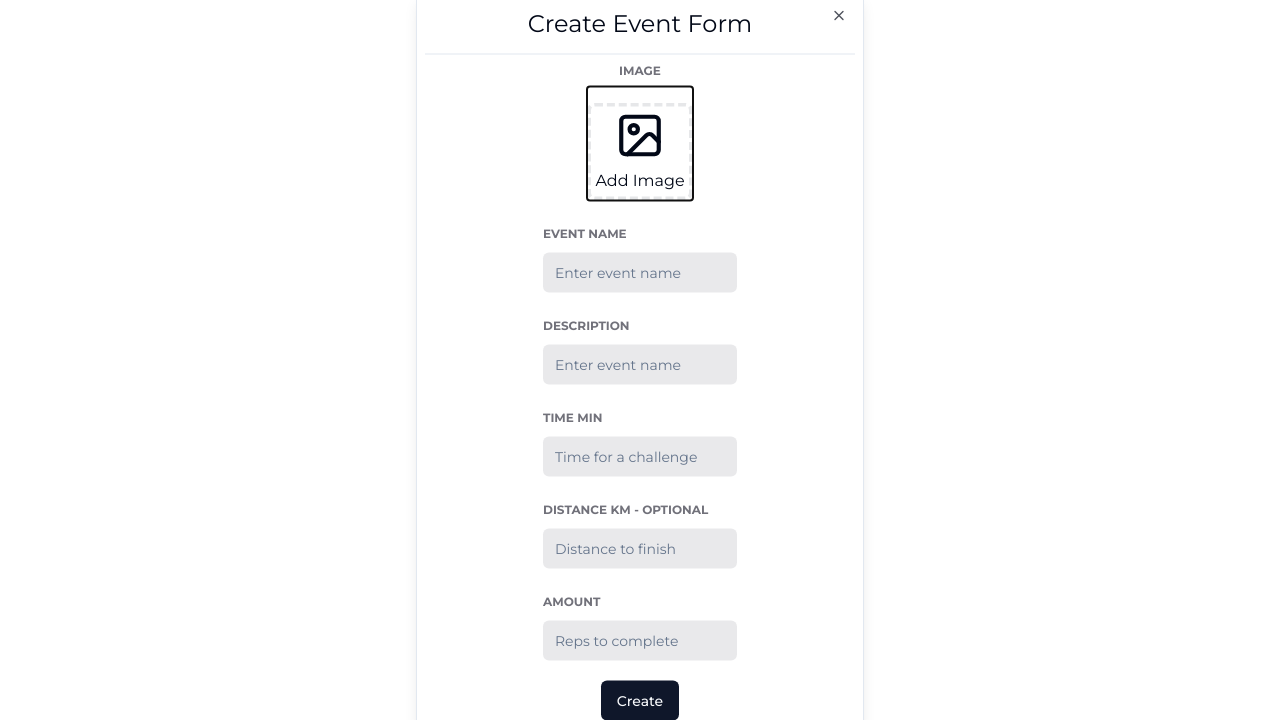
InitialModal component › should not submit the form with invalid data
Click the button "Create".
click(640, 700)  # box [601,680,679,719]
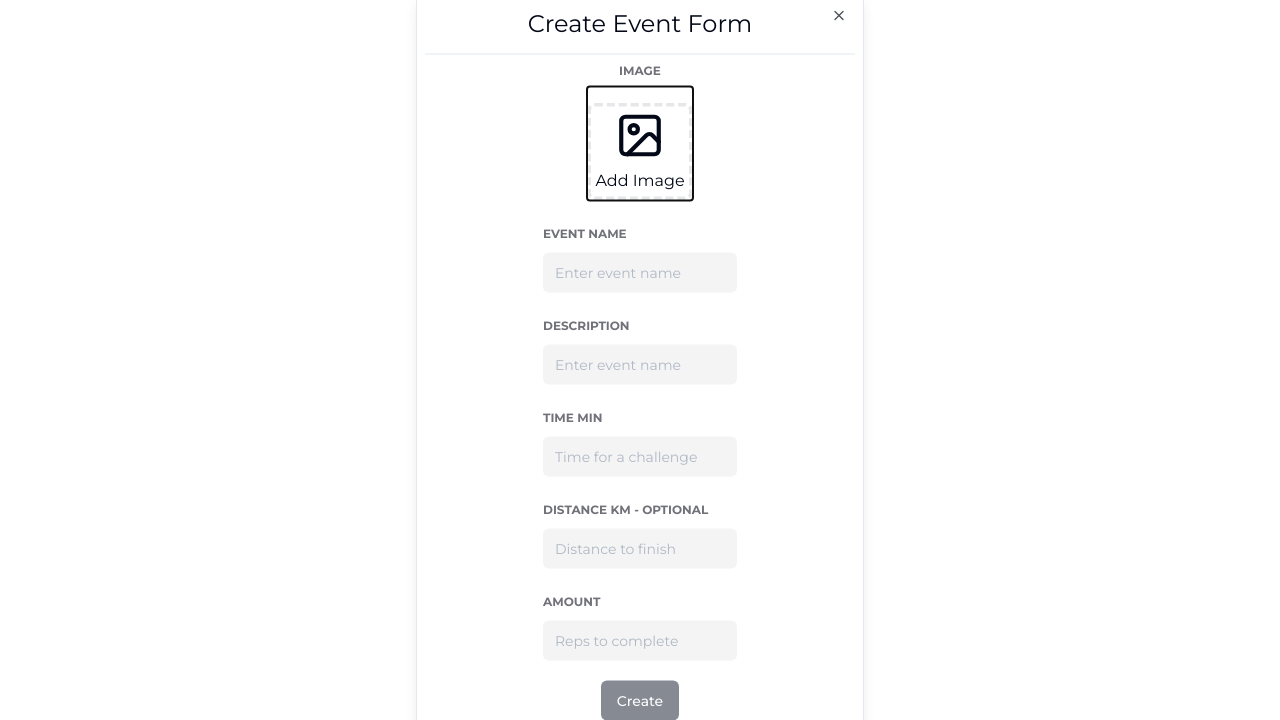
Expected: the button "Create" is disabled, [601,680,679,719]
